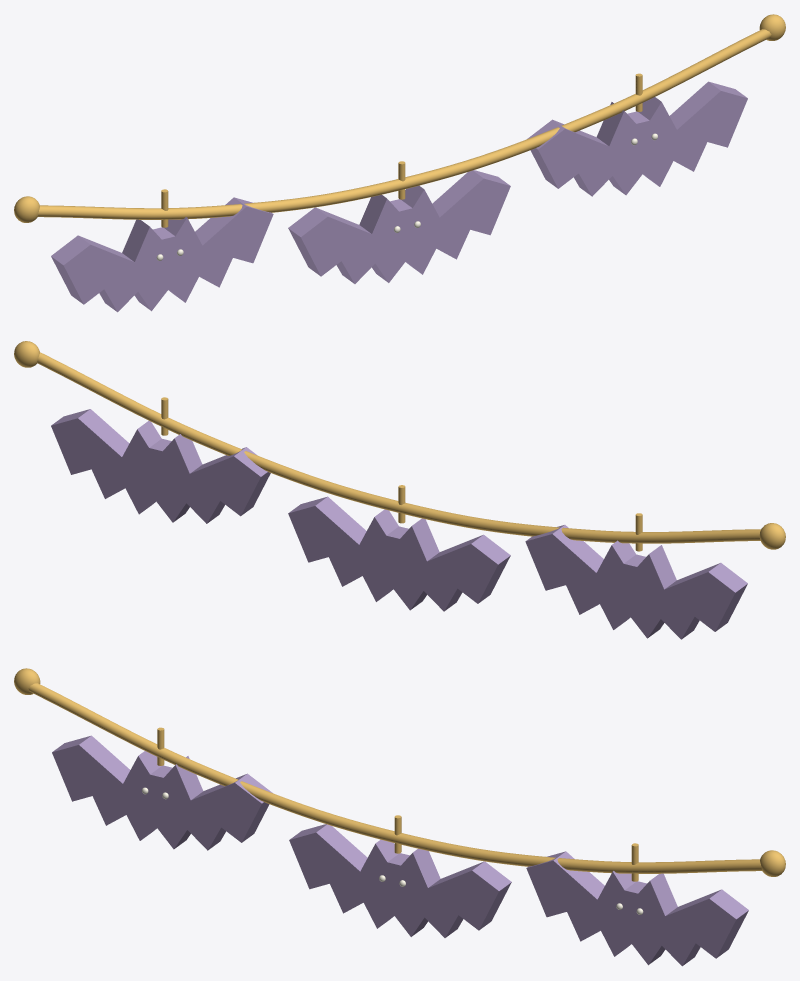
The model's file is halloweenBatGarland.glb.
3 views of the same model, one above another, from view 1: azimuth 30°, elevation 25°; view 2: azimuth 150°, elevation 25°; view 3: azimuth 330°, elevation 25° (orthographic).
Visible parts, largest first — view 1: Little bat.001, Little bat, Little bat.002, Garland cord, Garland wall peg; view 2: Little bat.001, Little bat, Little bat.002, Garland cord, Garland wall peg, Garland wall peg.001; view 3: Little bat.001, Little bat.002, Little bat, Garland cord, Garland wall peg.001.
Boxes of the visible parts, left/top/right/bottom form: Little bat.001: left=288, top=170, right=510, bottom=283; Little bat: left=51, top=197, right=273, bottom=312; Little bat.002: left=527, top=81, right=747, bottom=196; Garland cord: left=38, top=29, right=771, bottom=219; Garland wall peg: left=14, top=196, right=39, bottom=222; Little bat.001: left=288, top=496, right=510, bottom=611; Little bat: left=525, top=525, right=747, bottom=639; Little bat.002: left=51, top=409, right=270, bottom=523; Garland cord: left=37, top=352, right=760, bottom=543; Garland wall peg: left=759, top=523, right=785, bottom=549; Garland wall peg.001: left=14, top=341, right=39, bottom=367; Little bat.001: left=289, top=824, right=511, bottom=937; Little bat.002: left=526, top=851, right=748, bottom=966; Little bat: left=52, top=735, right=272, bottom=850; Garland cord: left=28, top=683, right=761, bottom=873; Garland wall peg.001: left=760, top=850, right=785, bottom=876.
Bounding box in the file's own units: 2.27 × 0.475 × 0.08.
